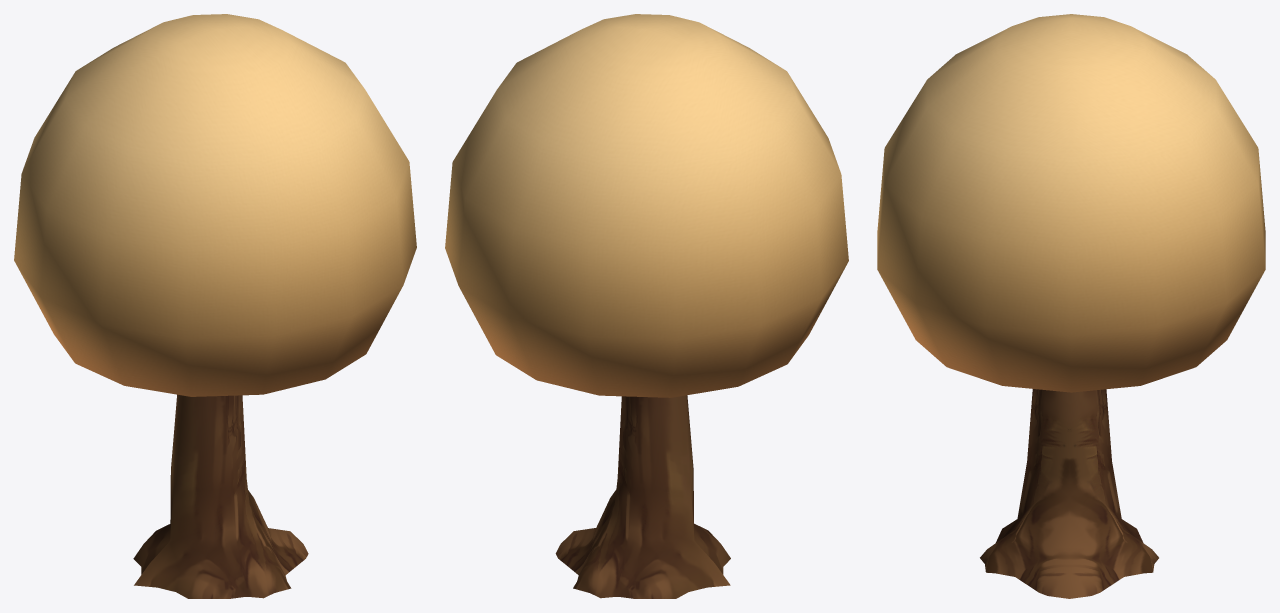
Rendered from SphereTree.FBX.
3 renders of one model, left to right at view 1: azimuth 30°, elevation 25°; view 2: azimuth 150°, elevation 25°; view 3: azimuth 270°, elevation 25°, orthographic.
Visible parts, largest first — view 1: SphereTree; view 2: SphereTree; view 3: SphereTree.
Part boxes in pixels (box(x1,y1,x2,y2)): SphereTree: box(14, 14, 416, 598); SphereTree: box(445, 14, 848, 598); SphereTree: box(877, 14, 1265, 598).
Size of the model in its own units: 59.46 by 86.78 by 57.97.
